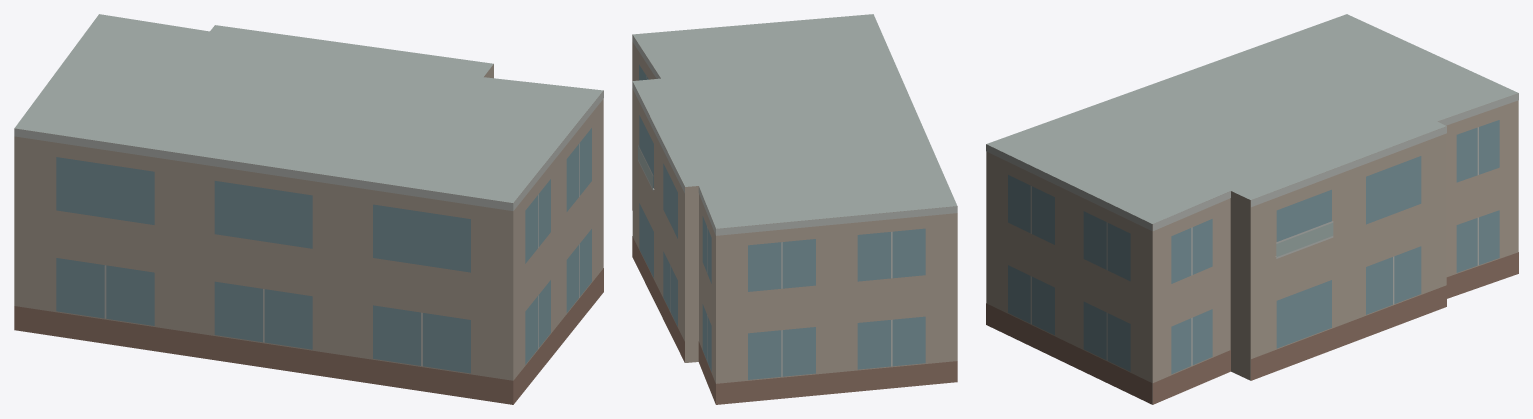
File: survey-upis-32774072.glb
3 renders of one model, left to right at view 1: azimuth 30°, elevation 25°; view 2: azimuth 150°, elevation 25°; view 3: azimuth 270°, elevation 25°, orthographic. The views are drawn at different scales.
Parts seen in each view (by area): view 1: survey-upis-32774072.tmp; view 2: survey-upis-32774072.tmp; view 3: survey-upis-32774072.tmp.
Part boxes in pixels (x1,y1,x2,y2): survey-upis-32774072.tmp: (14, 14, 603, 404); survey-upis-32774072.tmp: (632, 14, 957, 404); survey-upis-32774072.tmp: (986, 14, 1518, 404).
Bounding box in the file's own units: 15.23 × 6.1 × 16.31.
